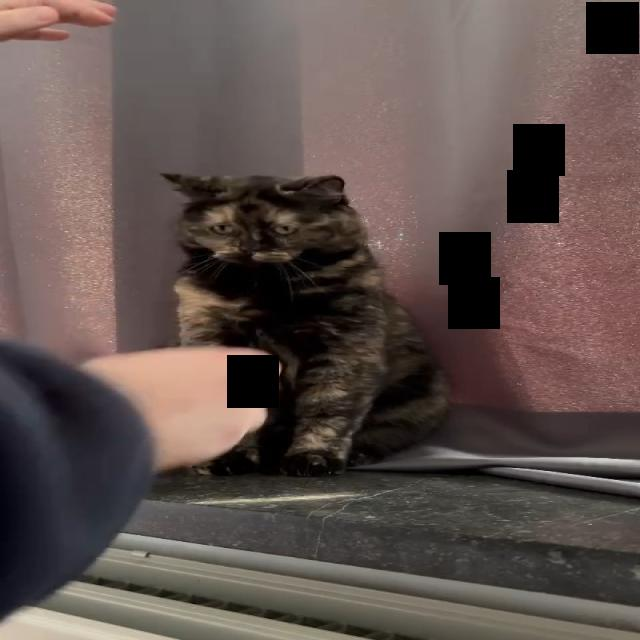authorized: (158, 171, 450, 477)
